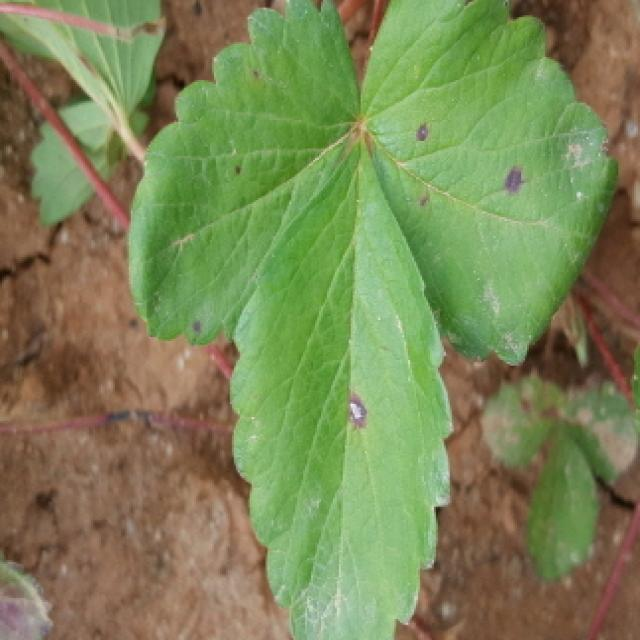Leaf Spot: (228, 132, 456, 640), (362, 0, 618, 368), (128, 0, 360, 347), (480, 367, 569, 469)
